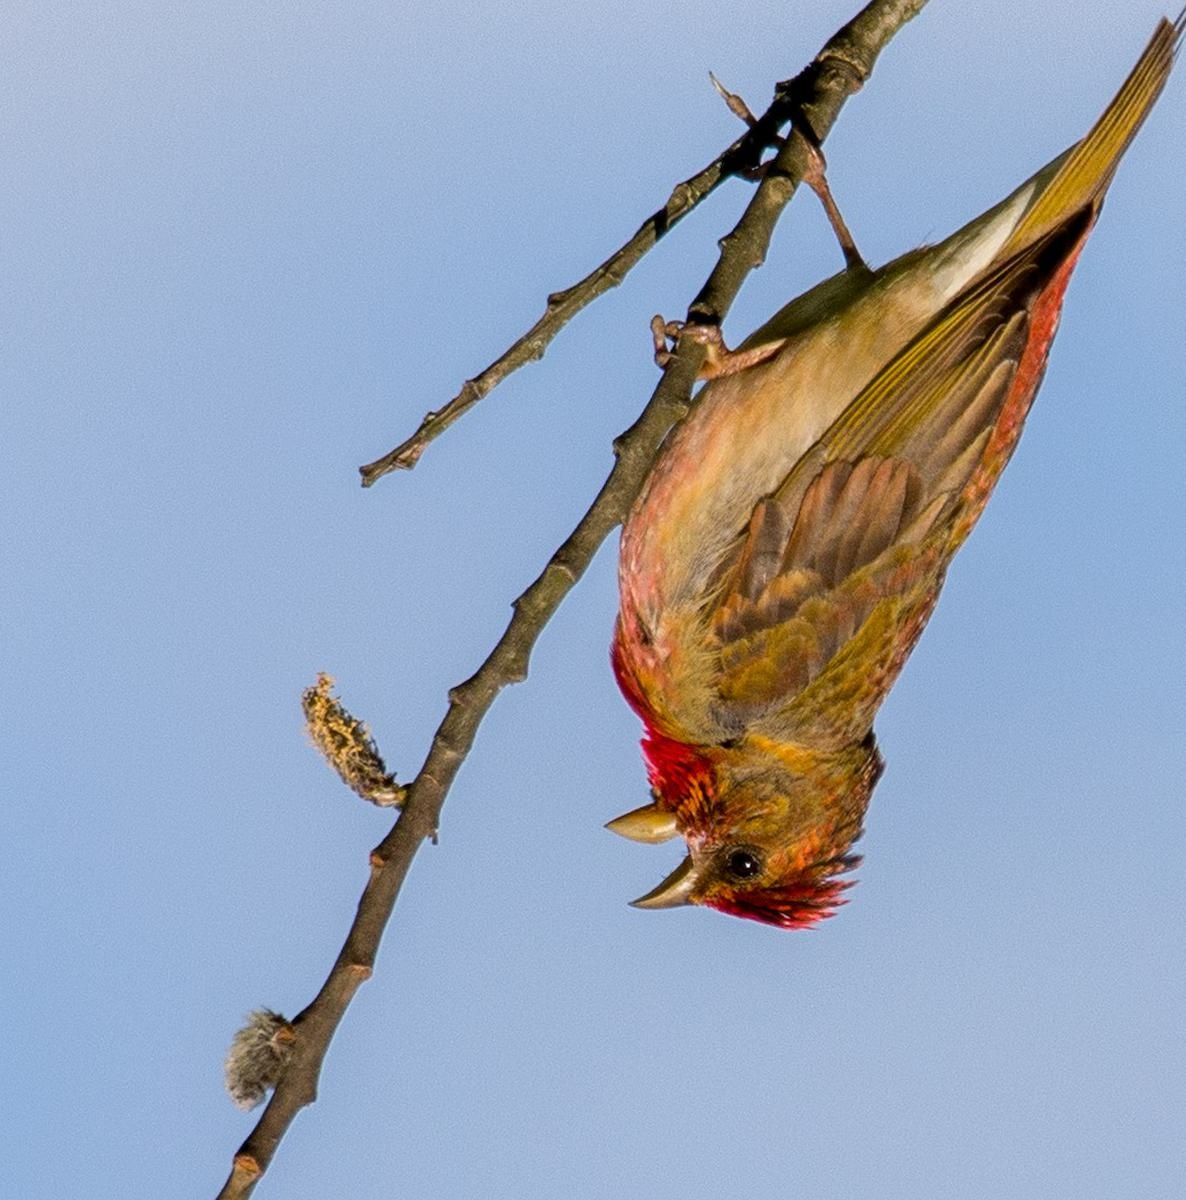rosefinch: (611, 182, 1181, 991)
